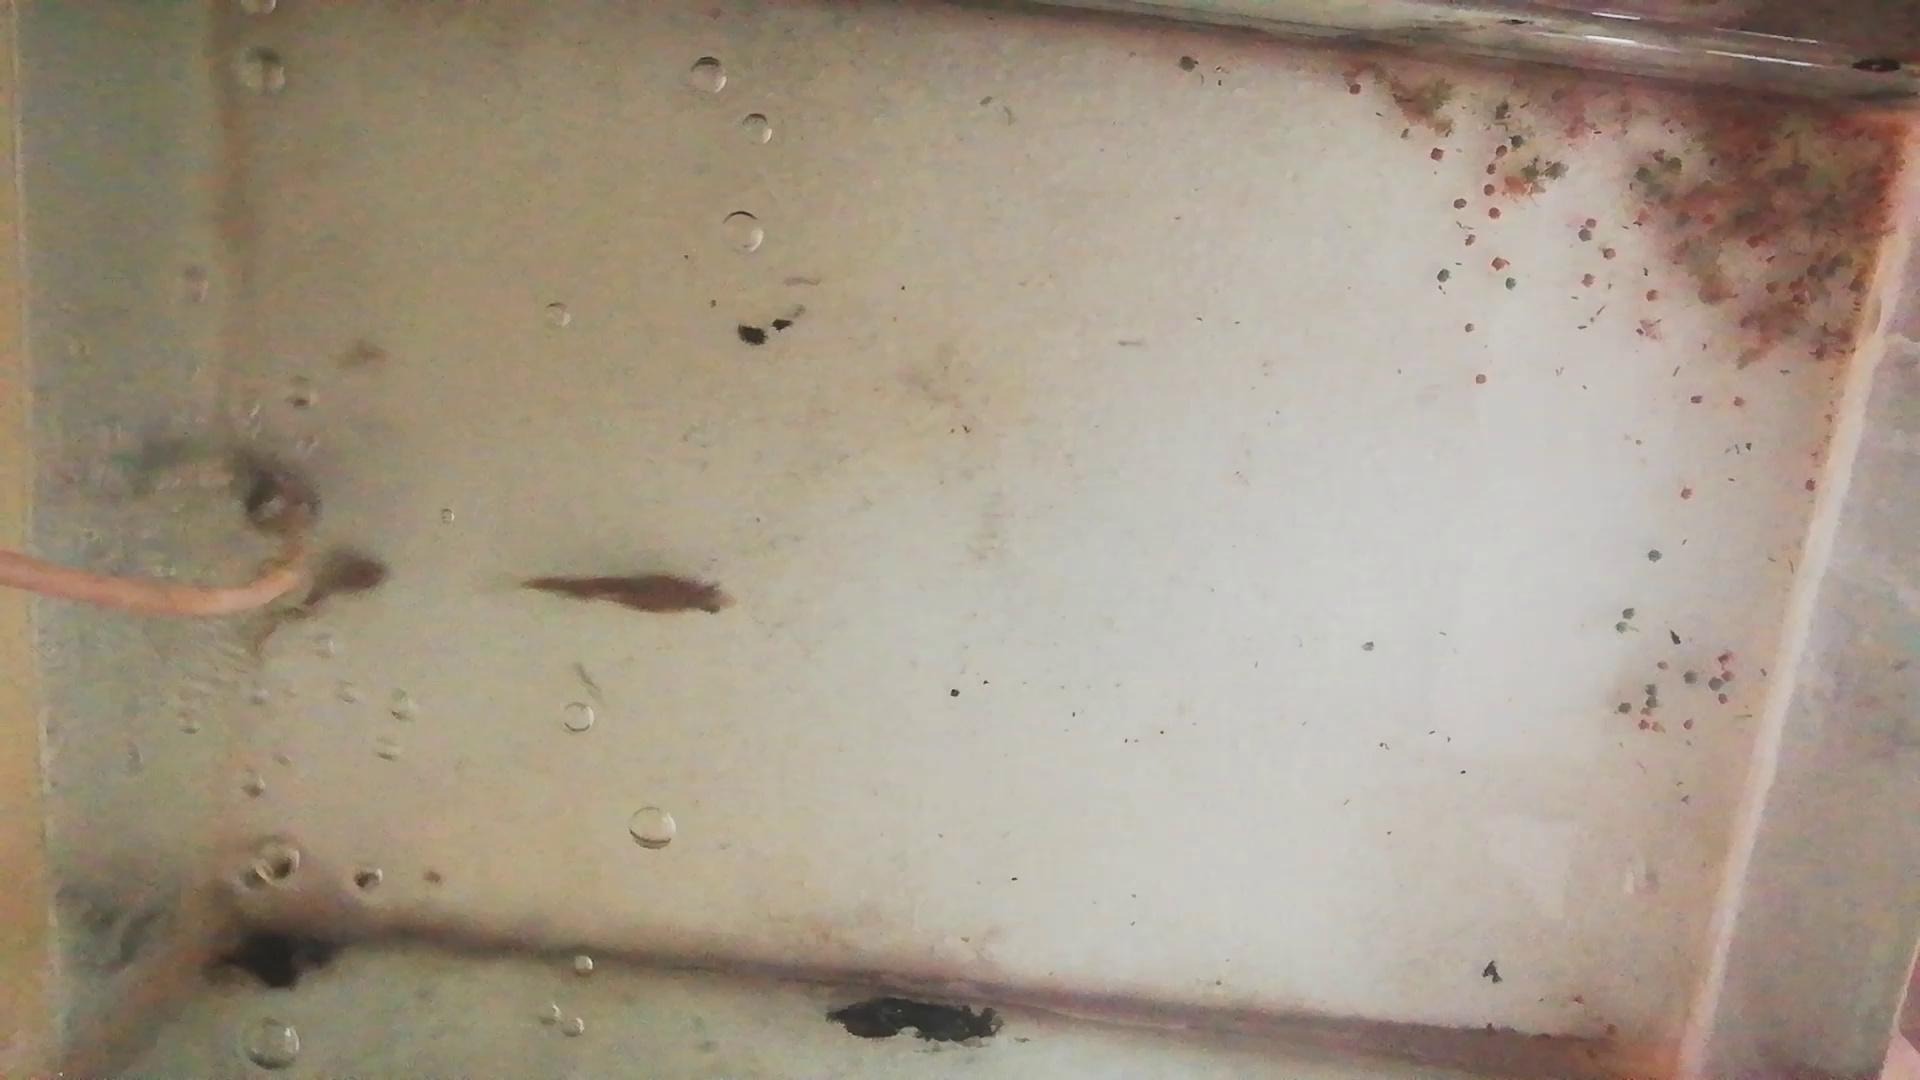fish: (243, 553, 400, 658), (520, 570, 738, 622)
